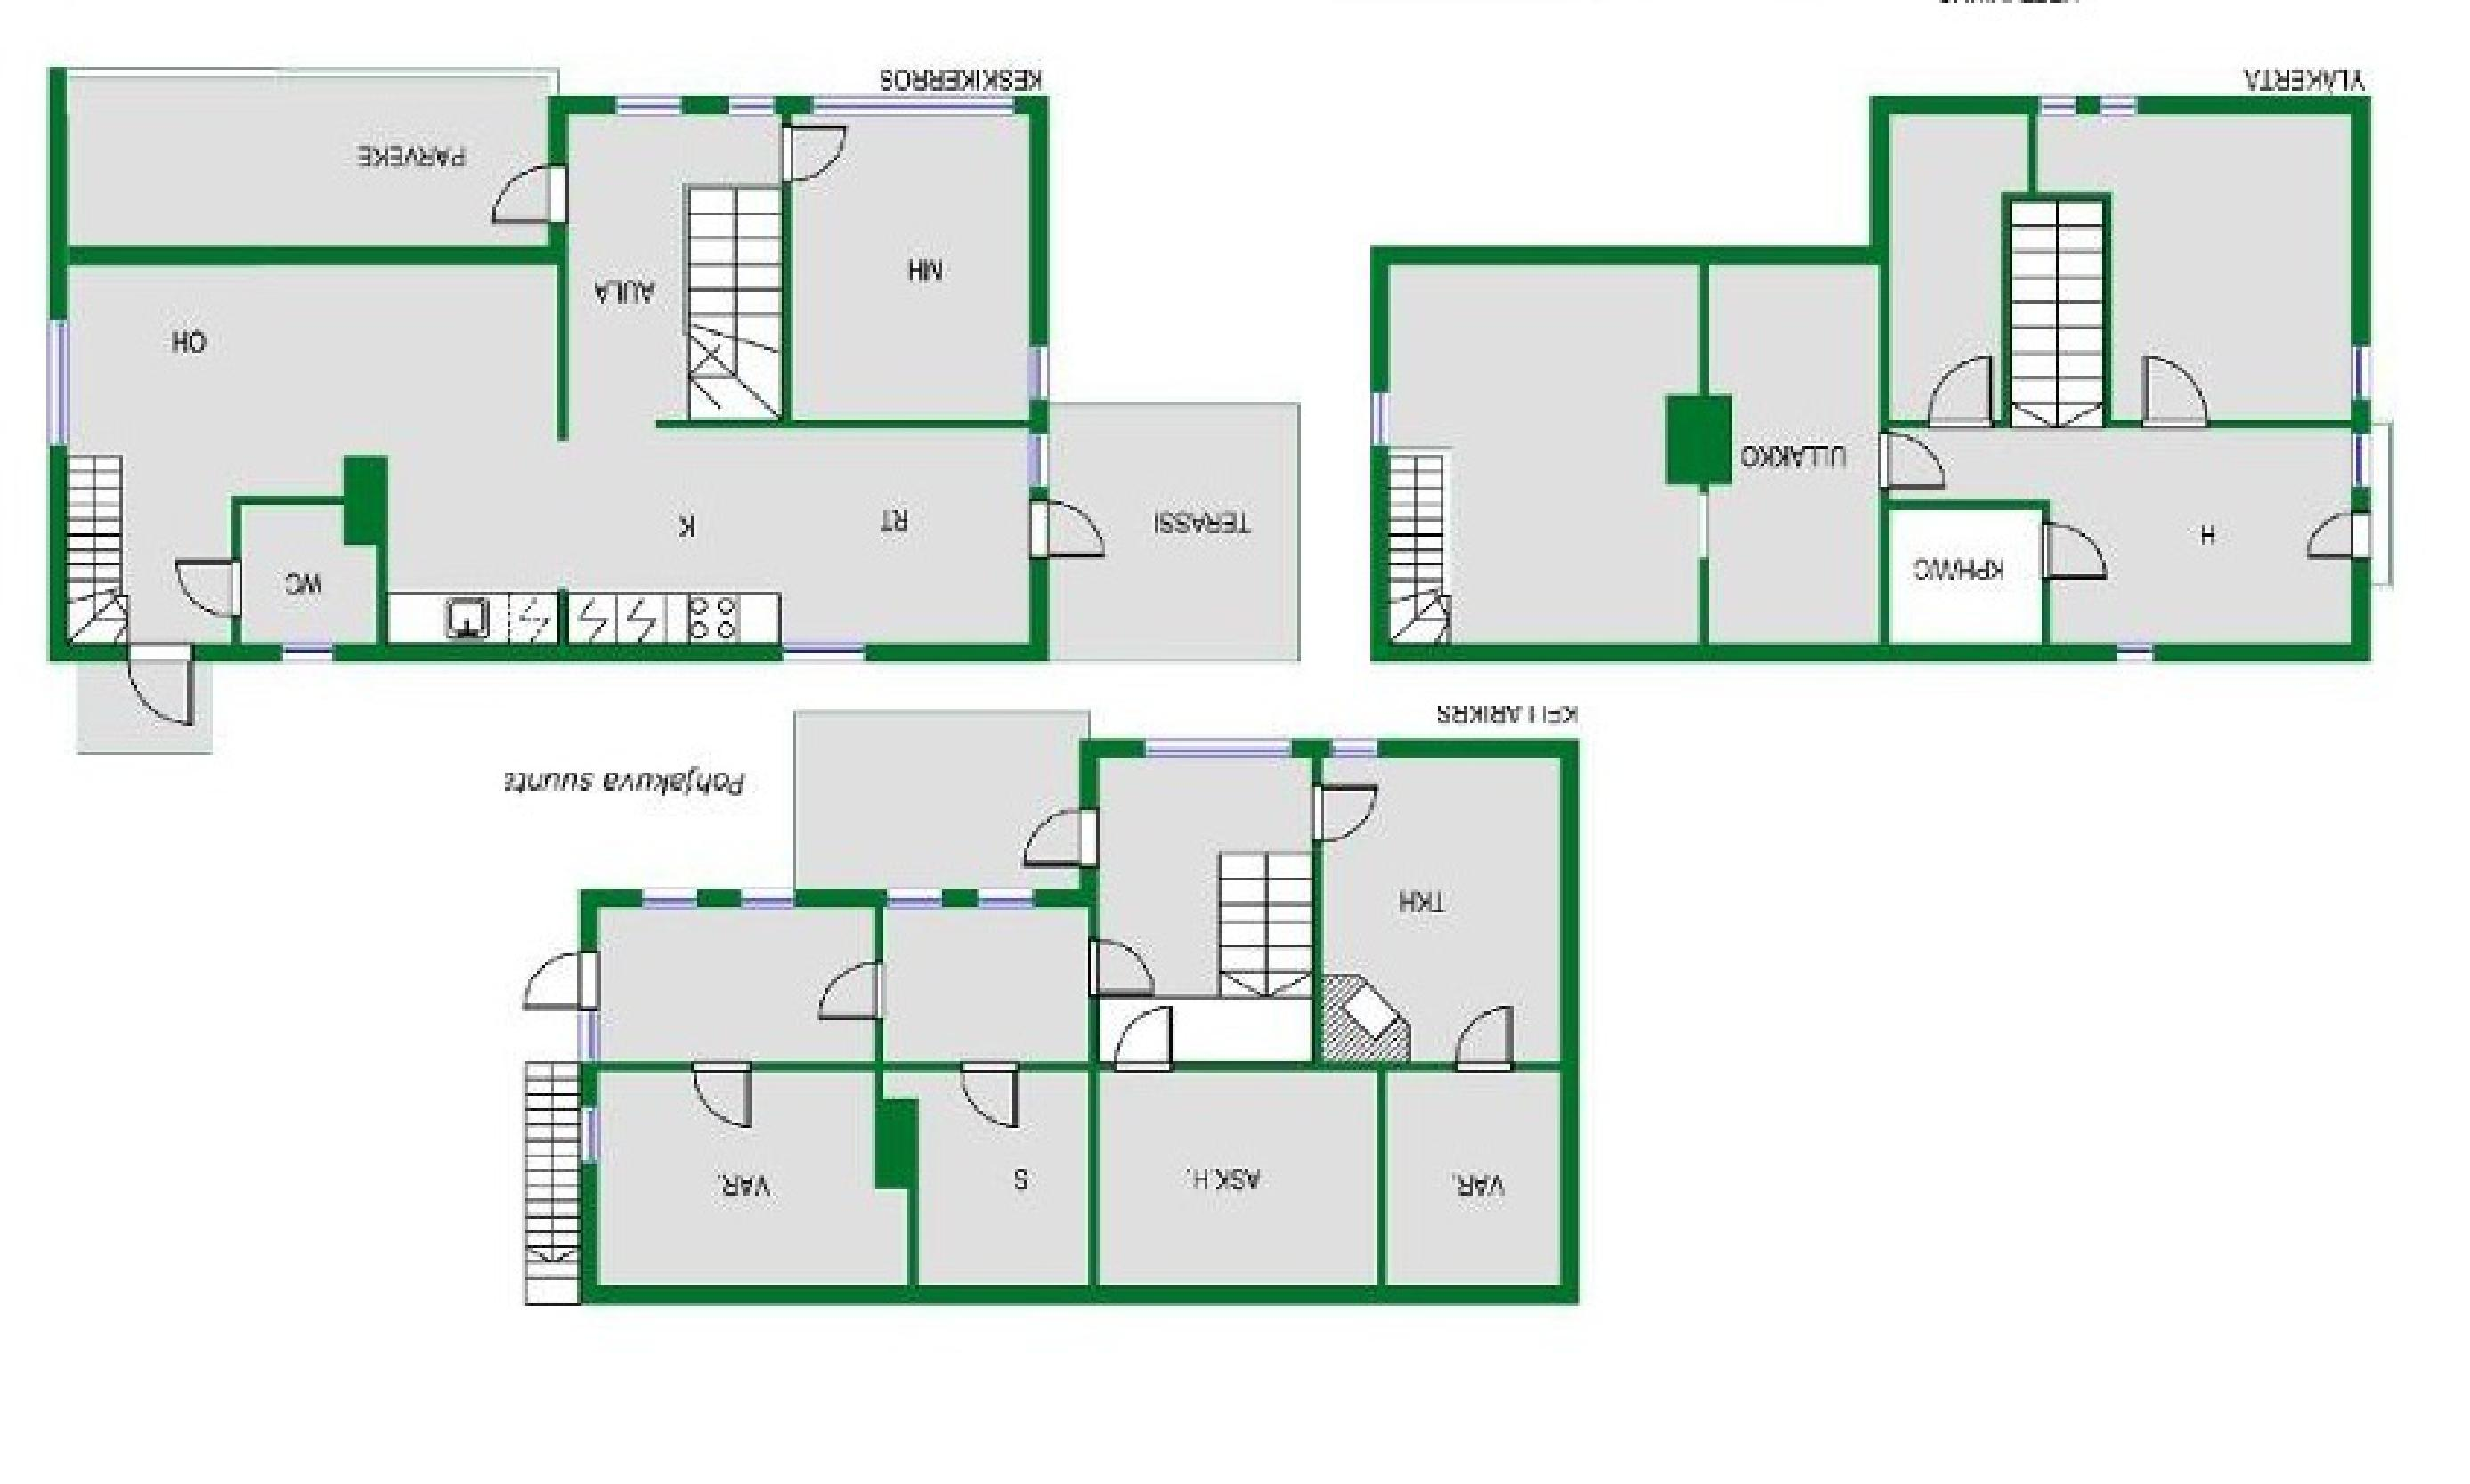door: (1013, 789, 1101, 879), (1020, 499, 1122, 572), (125, 644, 203, 738), (517, 949, 614, 1022), (2032, 524, 2129, 595), (485, 162, 575, 233), (2138, 356, 2219, 434), (1106, 988, 1175, 1073), (813, 963, 889, 1034), (695, 1062, 759, 1145), (773, 124, 850, 191), (1921, 355, 1987, 434), (1875, 431, 1958, 492), (168, 556, 247, 618), (2306, 510, 2384, 572), (958, 1057, 1018, 1135), (1076, 939, 1154, 999), (1457, 1008, 1523, 1075), (1313, 785, 1383, 847)
window: (812, 95, 1009, 113), (1145, 734, 1290, 757), (46, 316, 67, 446), (782, 637, 866, 663), (879, 884, 942, 919), (617, 92, 681, 122), (1022, 436, 1052, 496), (972, 886, 1030, 912), (739, 882, 796, 909), (1027, 344, 1052, 399), (577, 1108, 600, 1166), (1327, 736, 1378, 761), (2352, 429, 2373, 485), (2352, 348, 2373, 402), (644, 888, 697, 907), (573, 1011, 596, 1055), (1373, 392, 1390, 441), (281, 639, 325, 658), (2119, 639, 2156, 662), (2094, 92, 2131, 111), (2040, 95, 2073, 116), (729, 97, 771, 111)
zone: (65, 266, 1029, 639), (1390, 265, 1701, 641), (1891, 429, 2354, 649), (2040, 116, 2343, 422), (65, 74, 545, 240), (796, 113, 1030, 422), (1325, 755, 1560, 1057), (563, 113, 780, 416), (603, 1073, 907, 1290), (1050, 408, 1302, 662), (1708, 265, 1875, 646), (1101, 757, 1306, 1061), (1096, 1075, 1374, 1288), (792, 713, 1078, 888), (884, 1064, 1089, 1290), (595, 911, 880, 1059), (1886, 118, 2025, 416), (1381, 1068, 1560, 1290), (880, 911, 1089, 1061), (231, 498, 378, 637), (1893, 512, 2038, 641)
